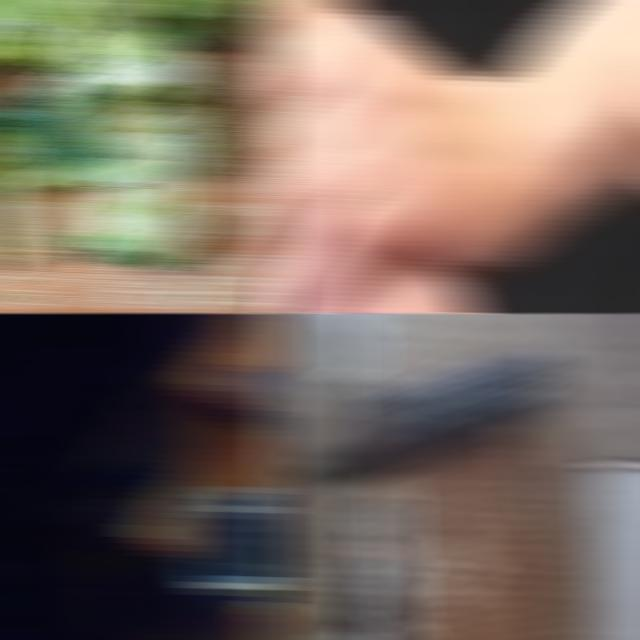Knife_Handle: (264, 238, 640, 313), (328, 606, 373, 633)
